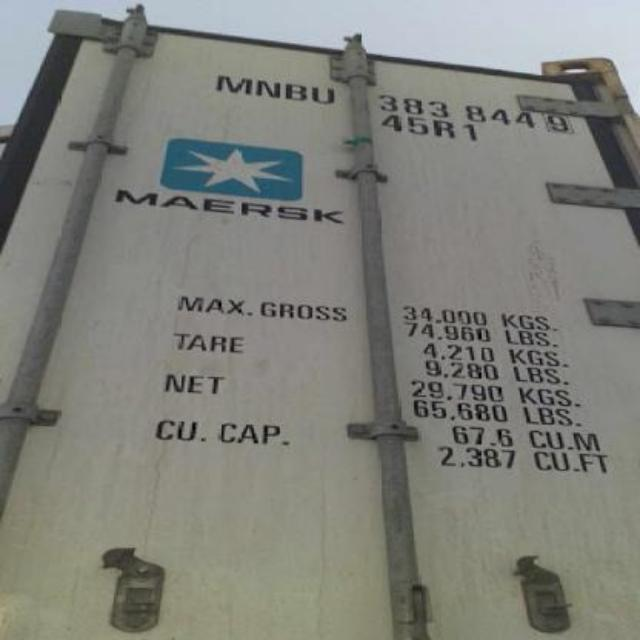3: (372, 86, 398, 114), (424, 92, 452, 118)
4: (492, 102, 514, 128), (516, 104, 538, 128)
8: (460, 94, 488, 122), (398, 87, 424, 117)
9: (548, 111, 576, 135)
B: (284, 76, 310, 104)
M: (216, 71, 252, 95)
N: (254, 72, 284, 98)
U: (310, 78, 338, 108)
